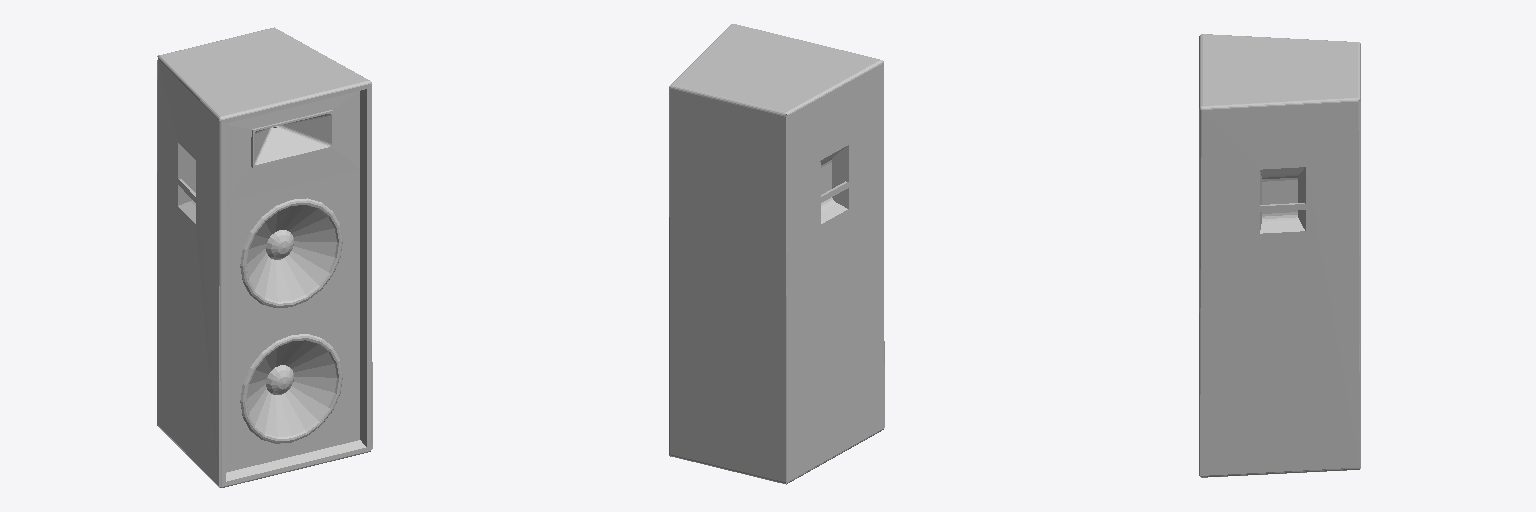
Rendered from speaker.obj.
3 renders of one model, left to right at view 1: azimuth 30°, elevation 25°; view 2: azimuth 150°, elevation 25°; view 3: azimuth 270°, elevation 25°, orthographic.
Parts seen in each view (by area): view 1: Form35; view 2: Form35; view 3: Form35.
Boxes of the visible parts, x1=… form: Form35: x1=157, y1=27, x2=372, y2=487; Form35: x1=669, y1=24, x2=884, y2=484; Form35: x1=1199, y1=34, x2=1360, y2=477.
Bounding box in the file's own units: 0.9489 × 2.2 × 0.8635.